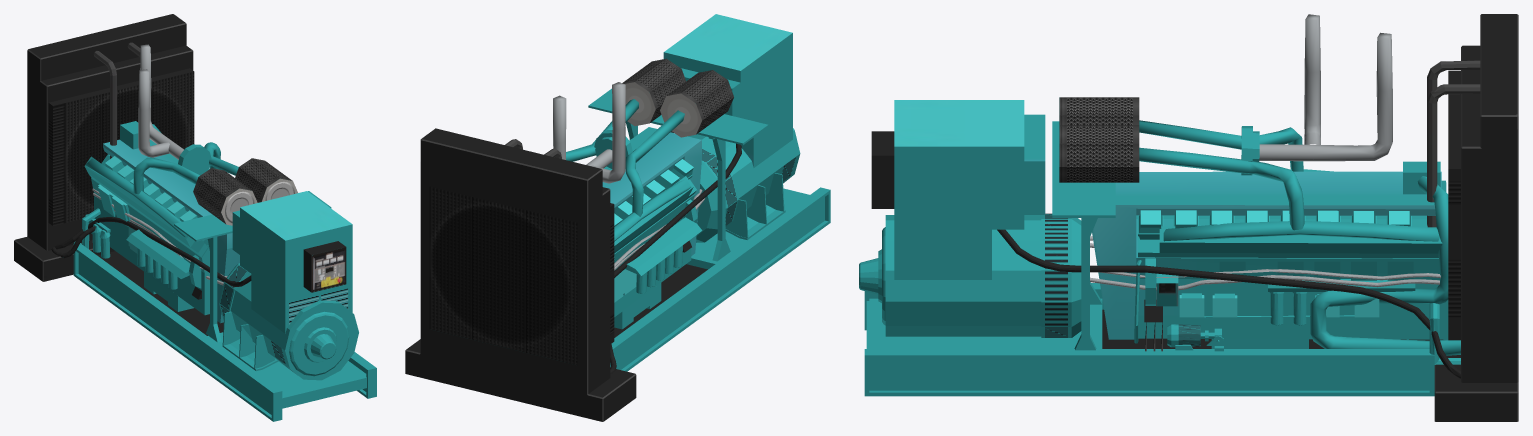
3 renders of one model, left to right at view 1: azimuth 30°, elevation 25°; view 2: azimuth 150°, elevation 25°; view 3: azimuth 270°, elevation 25°, orthographic. The views are drawn at different scales.
Parts seen in each view (by area): view 1: Lo-BODY_02, Lo-ELEMENT_02; view 2: Lo-BODY_02, Lo-ELEMENT_02; view 3: Lo-BODY_02, Lo-ELEMENT_02.
Boxes of the visible parts, <box> form: Lo-BODY_02: <box>14,14,376,421</box>; Lo-ELEMENT_02: <box>51,42,251,299</box>; Lo-BODY_02: <box>405,14,830,421</box>; Lo-ELEMENT_02: <box>505,82,741,374</box>; Lo-BODY_02: <box>859,14,1518,421</box>; Lo-ELEMENT_02: <box>997,14,1480,378</box>.
Size of the model in its own units: 2.37 by 2.99 by 5.47.
Materials: 2 (2 with a texture image).
